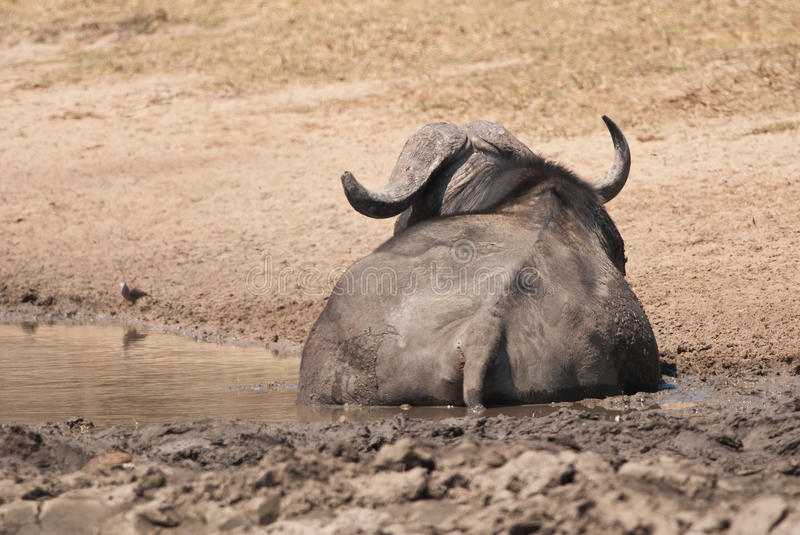bison: (290, 95, 671, 412)
